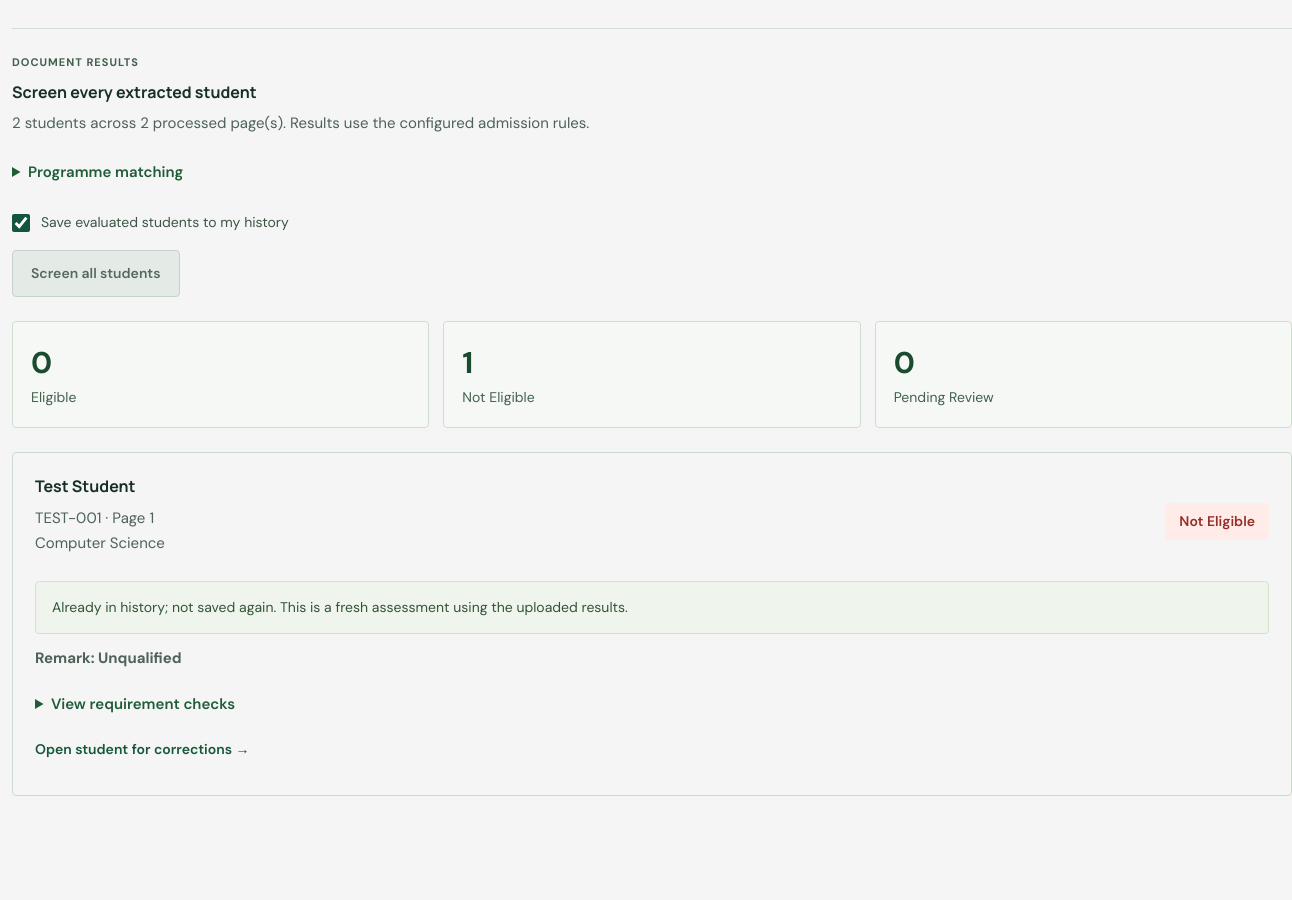
Test case: shows a fresh outcome and checks for a student already in history
The image size is (1292, 900).
Check: the text "Already in history; not saved again" is shown, box [52, 598, 276, 616]
Check: the text "Remark: Unqualified" is shown, box [35, 648, 182, 668]
Click the heading "View requirement checks" at coordinates (143, 704), box [51, 694, 235, 714]
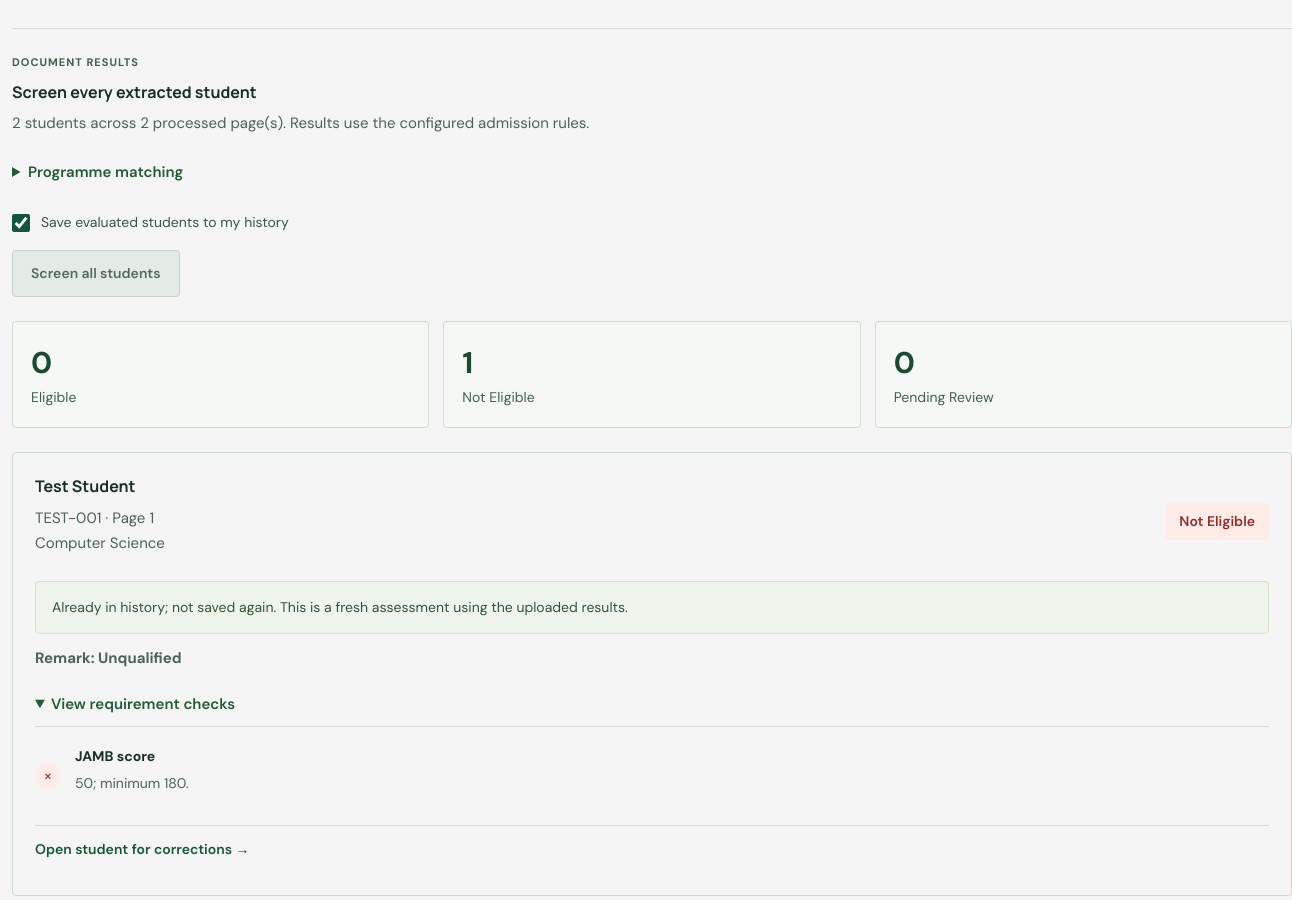
Check: the text "50; minimum 180." is shown, box [75, 772, 189, 796]
